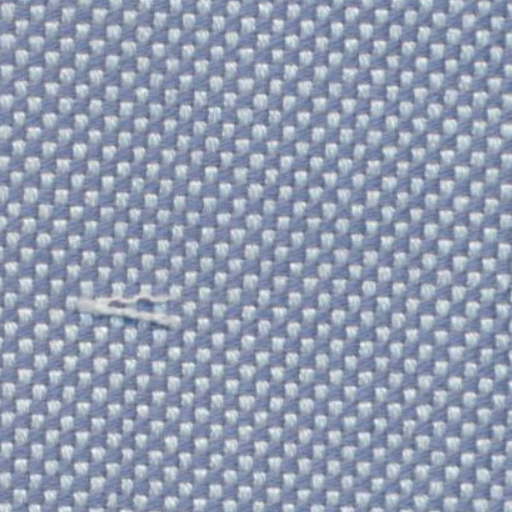DuanSha: (60, 279, 177, 346)
